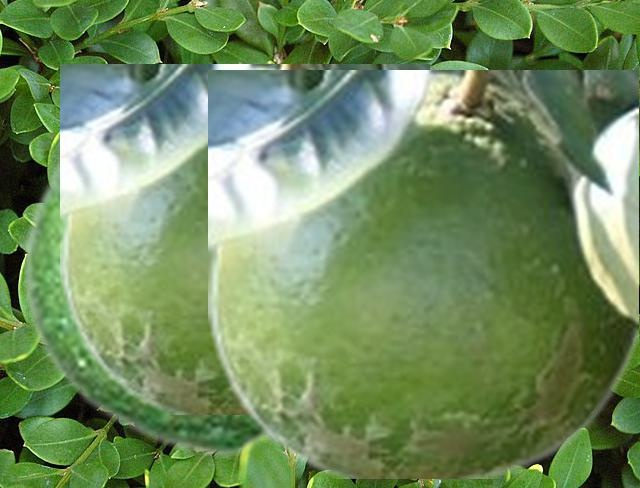dalandan: (208, 70, 637, 477), (60, 64, 428, 413), (19, 150, 269, 457)
